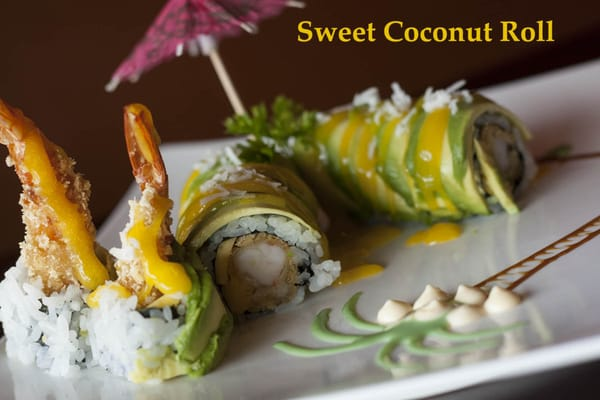curry: (223, 78, 549, 230)
